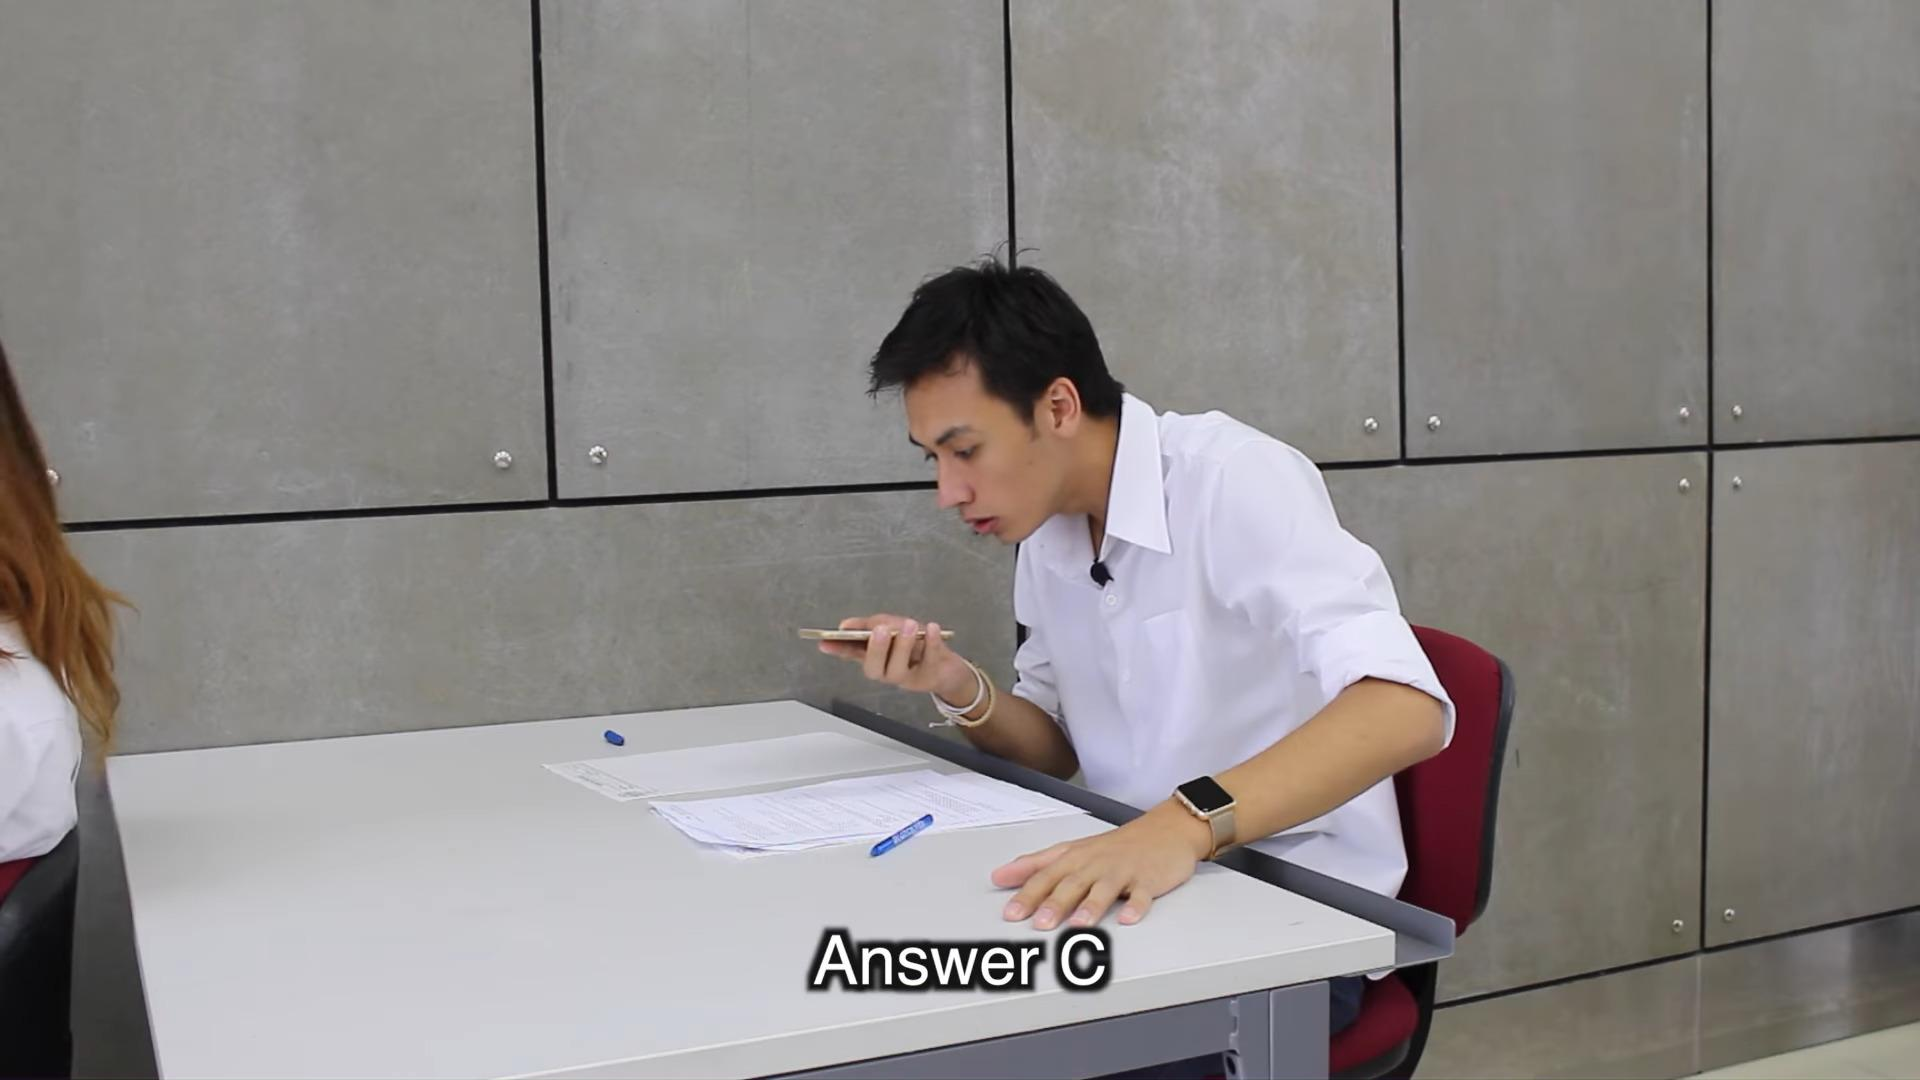cheating: (530, 223, 1470, 890)
